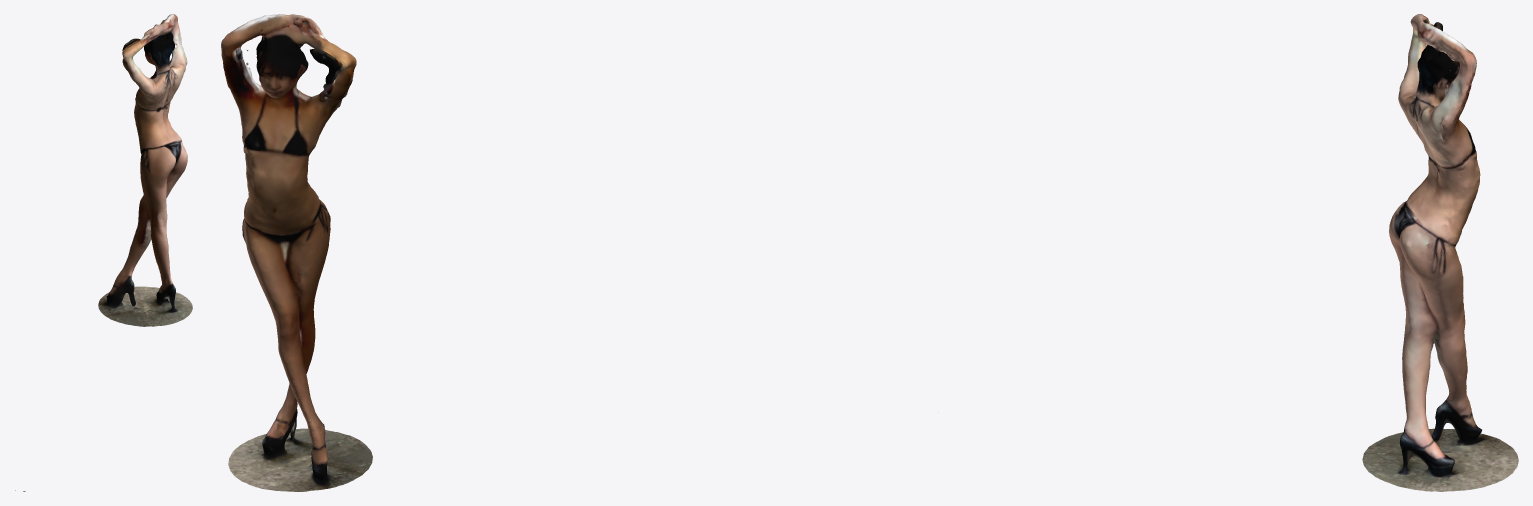
Rendered from usako_1.glb.
3 views of the same model, side by side, from view 1: azimuth 30°, elevation 25°; view 2: azimuth 150°, elevation 25°; view 3: azimuth 270°, elevation 25° (orthographic). The views are drawn at different scales.
Parts seen in each view (by area): view 1: model; view 2: model; view 3: model.
Boxes of the visible parts, <box> form: model: <box>15,14,192,491</box>; model: <box>221,14,372,491</box>; model: <box>1362,14,1518,491</box>.
Size of the model in its own units: 1.79 by 1.59 by 1.68.
Materials: 2 (2 with a texture image).
